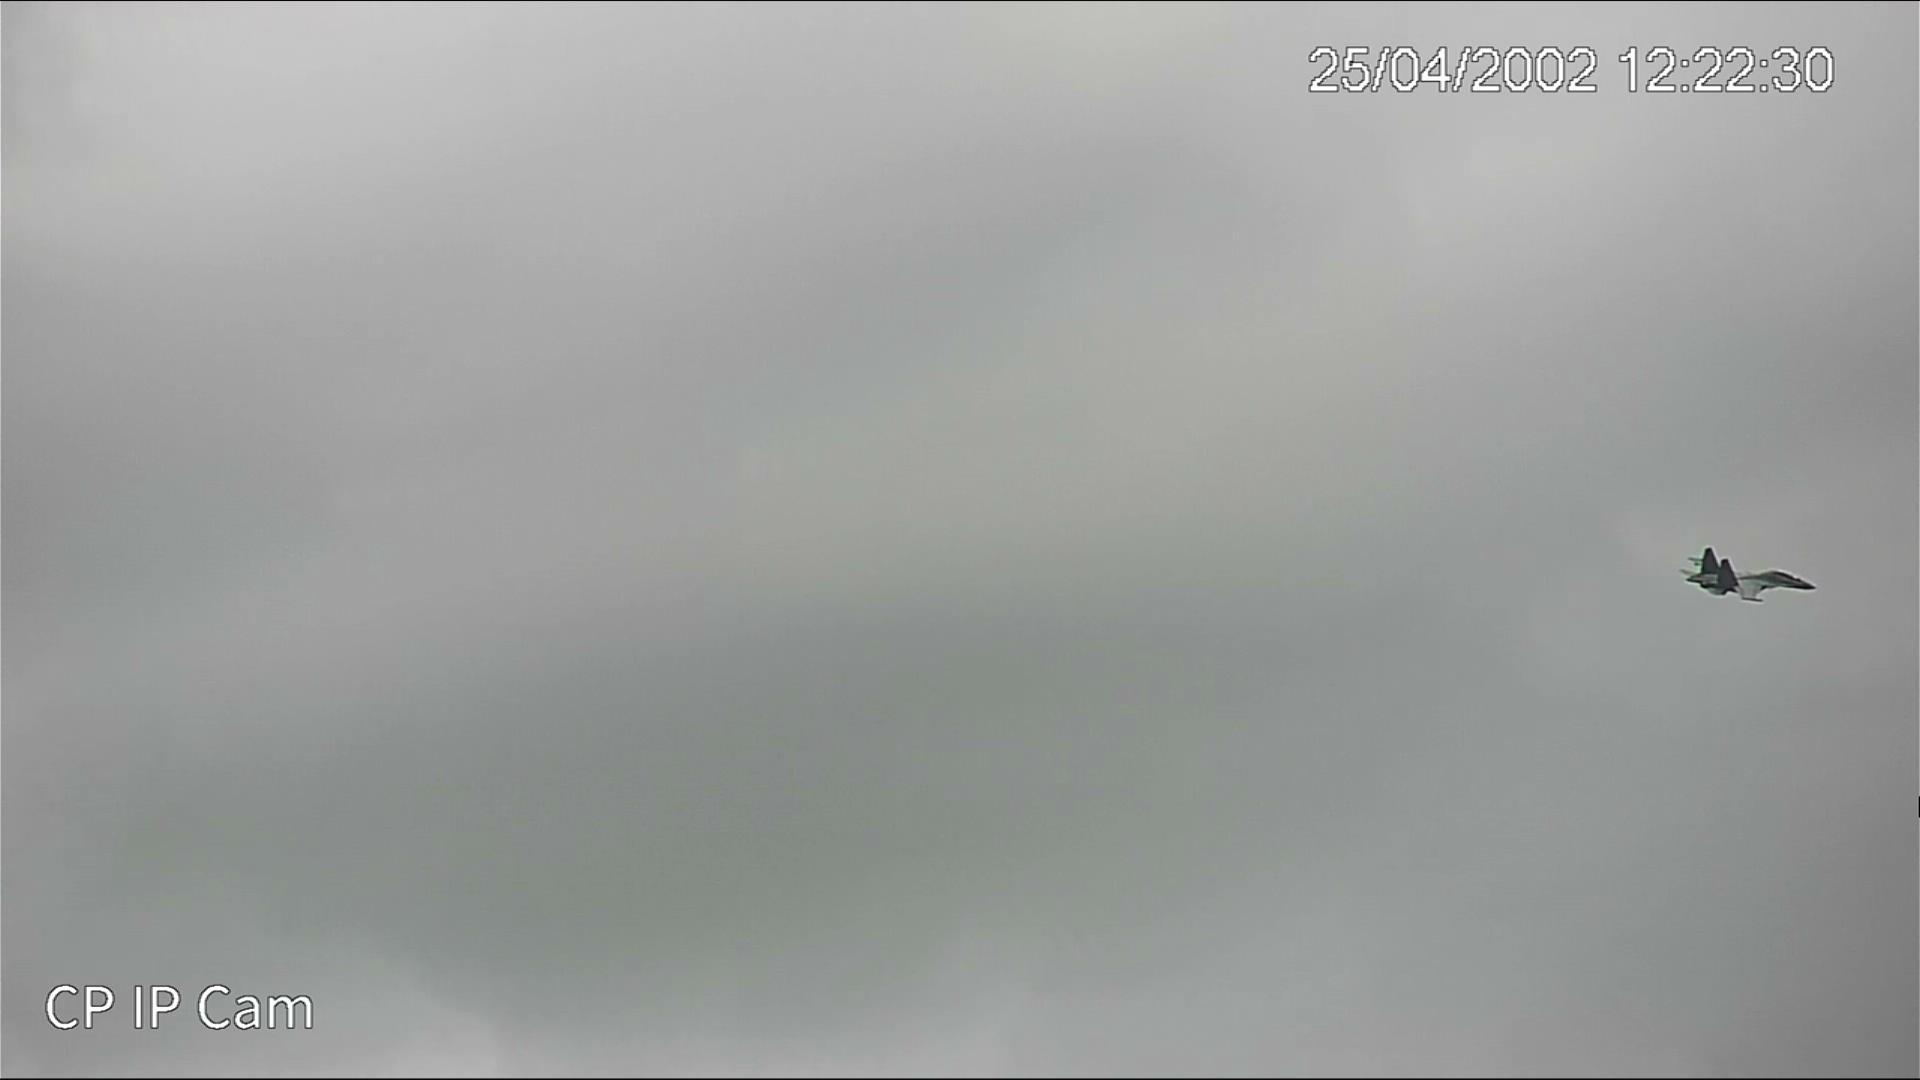SU_30: (1683, 541, 1828, 607)
